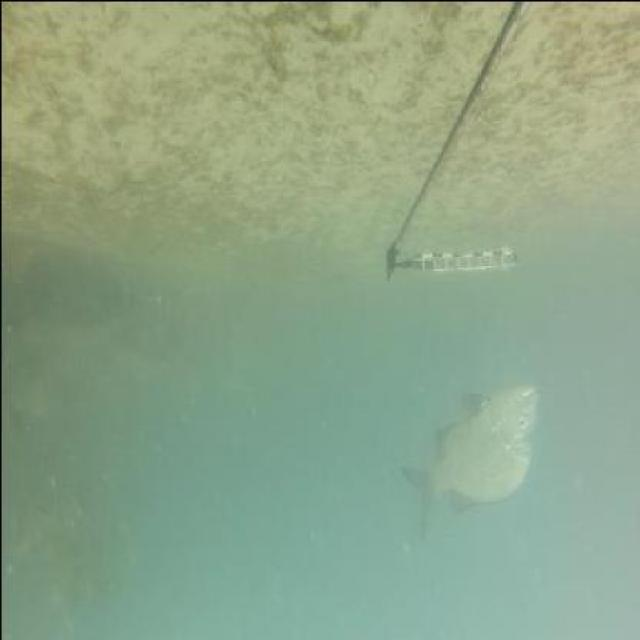acanthopagrus_palmaris: (400, 371, 538, 546)
